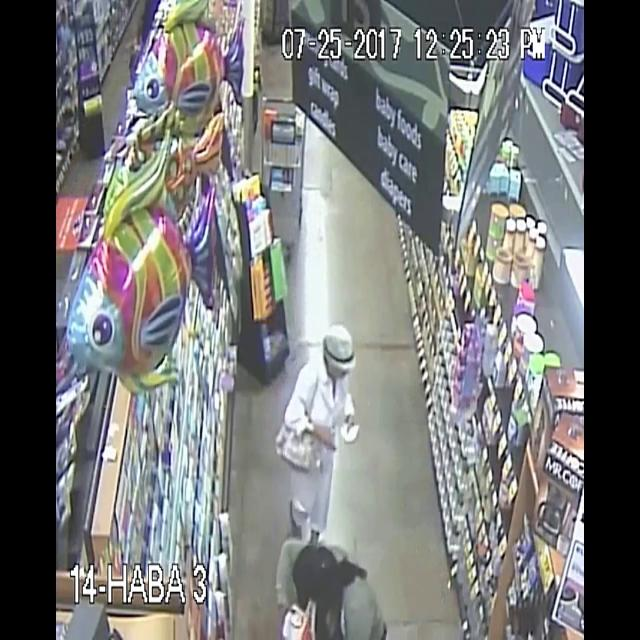normal: (270, 287, 370, 497)
shoplifting: (262, 502, 378, 640)
